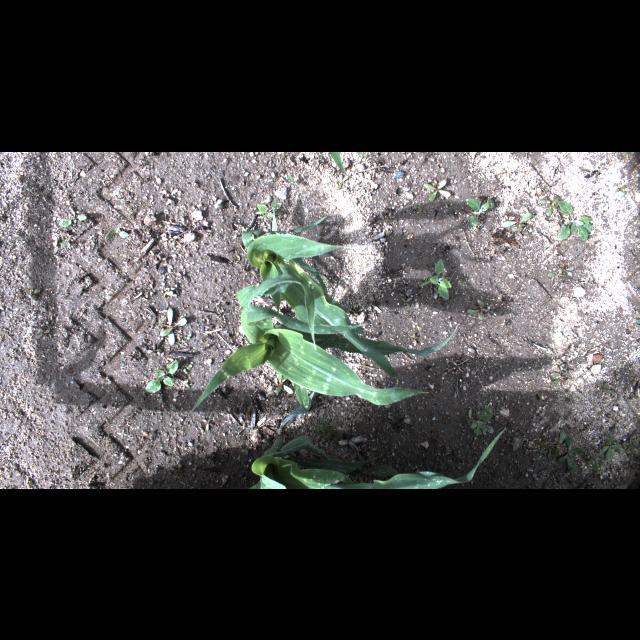crop: (190, 276, 458, 430), (240, 214, 398, 376), (246, 432, 504, 488), (328, 151, 350, 173)
weed: (536, 430, 586, 476), (419, 258, 453, 300), (144, 361, 180, 394), (558, 214, 594, 242), (464, 196, 494, 228), (465, 403, 493, 437), (159, 310, 187, 344), (540, 194, 574, 216), (424, 178, 452, 200), (502, 212, 532, 232), (61, 206, 88, 226), (258, 199, 282, 219), (603, 434, 621, 460), (466, 301, 488, 321), (324, 420, 346, 440), (272, 370, 288, 396), (587, 451, 605, 472), (549, 266, 575, 278), (550, 370, 568, 386), (594, 380, 614, 394), (104, 228, 130, 238), (626, 437, 640, 455), (24, 286, 40, 300), (314, 416, 326, 434), (203, 412, 211, 430), (146, 344, 164, 352), (614, 184, 626, 196), (170, 464, 184, 474), (35, 328, 49, 338), (288, 174, 298, 186), (182, 364, 192, 374), (184, 378, 193, 388), (402, 297, 411, 307), (621, 151, 635, 157), (59, 240, 71, 246), (336, 182, 346, 188), (38, 307, 46, 313), (445, 378, 451, 384), (31, 408, 39, 412), (636, 317, 640, 325), (172, 404, 176, 410), (354, 152, 366, 154), (280, 152, 284, 158), (468, 152, 478, 154), (230, 474, 234, 478), (528, 278, 532, 280)
